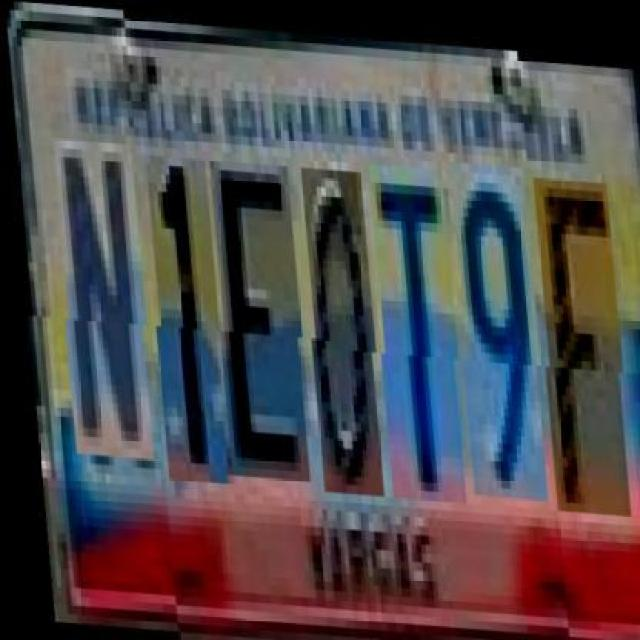1: (142, 153, 225, 481)
9: (448, 155, 544, 492)
e: (206, 157, 306, 477)
f: (529, 159, 626, 498)
n: (51, 147, 151, 467)
o: (298, 163, 380, 491)
t: (366, 158, 462, 496)
